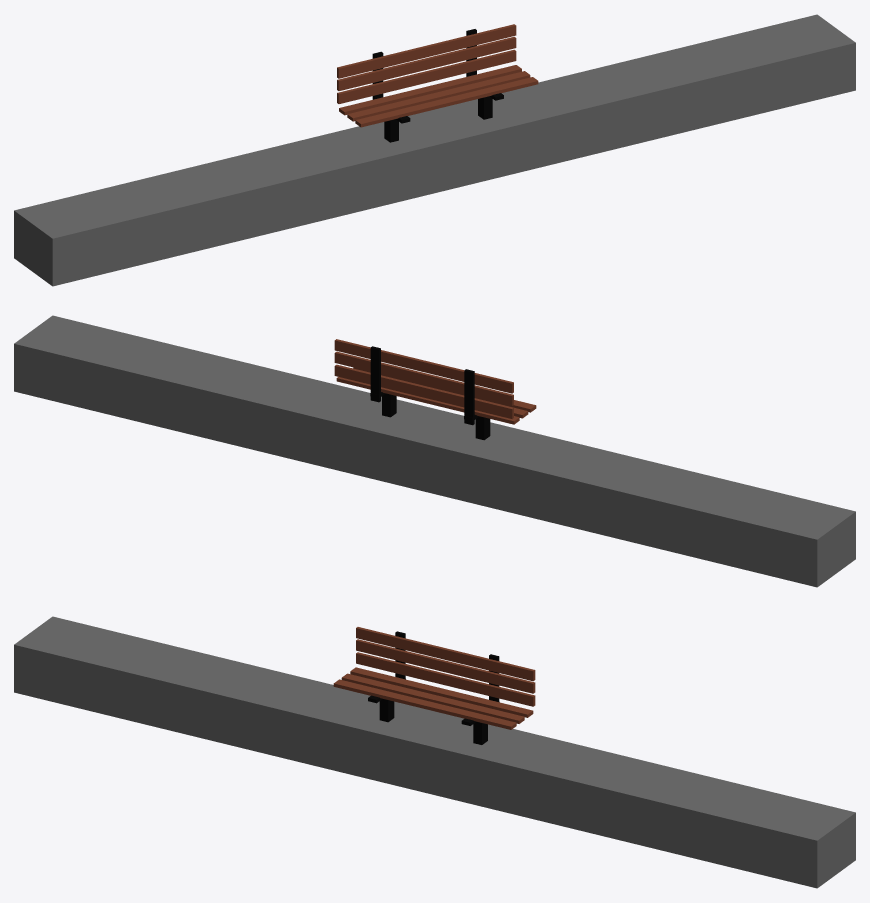
File: ParkinglotEdgeBenchFixed.fbx
The picture shows the model from 3 angles, top to bottom: view 1: azimuth 30°, elevation 25°; view 2: azimuth 150°, elevation 25°; view 3: azimuth 330°, elevation 25°; orthographic projection.
Visible parts, largest first — view 1: Cube; view 2: Cube; view 3: Cube.
Boxes of the visible parts, bbox=[...] form: Cube: bbox=[14, 14, 855, 286]; Cube: bbox=[14, 315, 855, 587]; Cube: bbox=[14, 616, 855, 888].
Bounding box in the file's own units: 600 × 88.44 × 50.
